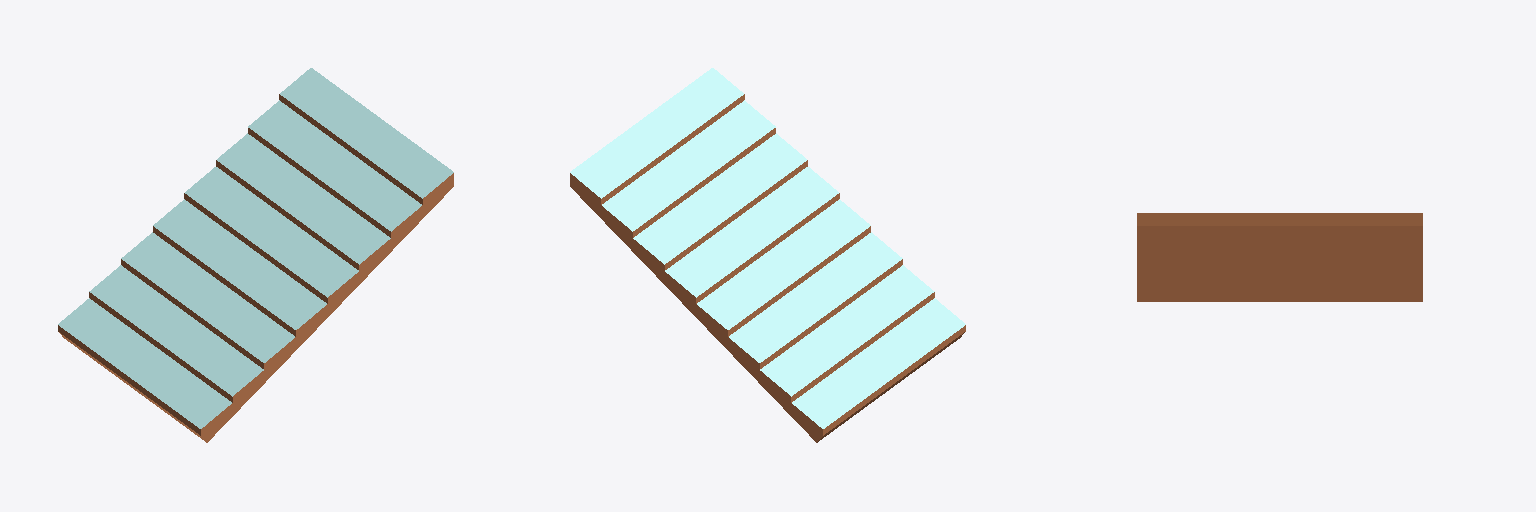
The picture shows the model from 3 angles: view 1: azimuth 30°, elevation 25°; view 2: azimuth 150°, elevation 25°; view 3: azimuth 270°, elevation 25°; orthographic projection.
Parts seen in each view (by area): view 1: cabinRoof; view 2: cabinRoof; view 3: cabinRoof.
Part boxes in pixels (bbox=[...]): cabinRoof: bbox=[58, 68, 453, 442]; cabinRoof: bbox=[570, 68, 965, 442]; cabinRoof: bbox=[1137, 213, 1422, 301].
Size of the model in its own units: 1 by 0.793 by 0.9789.